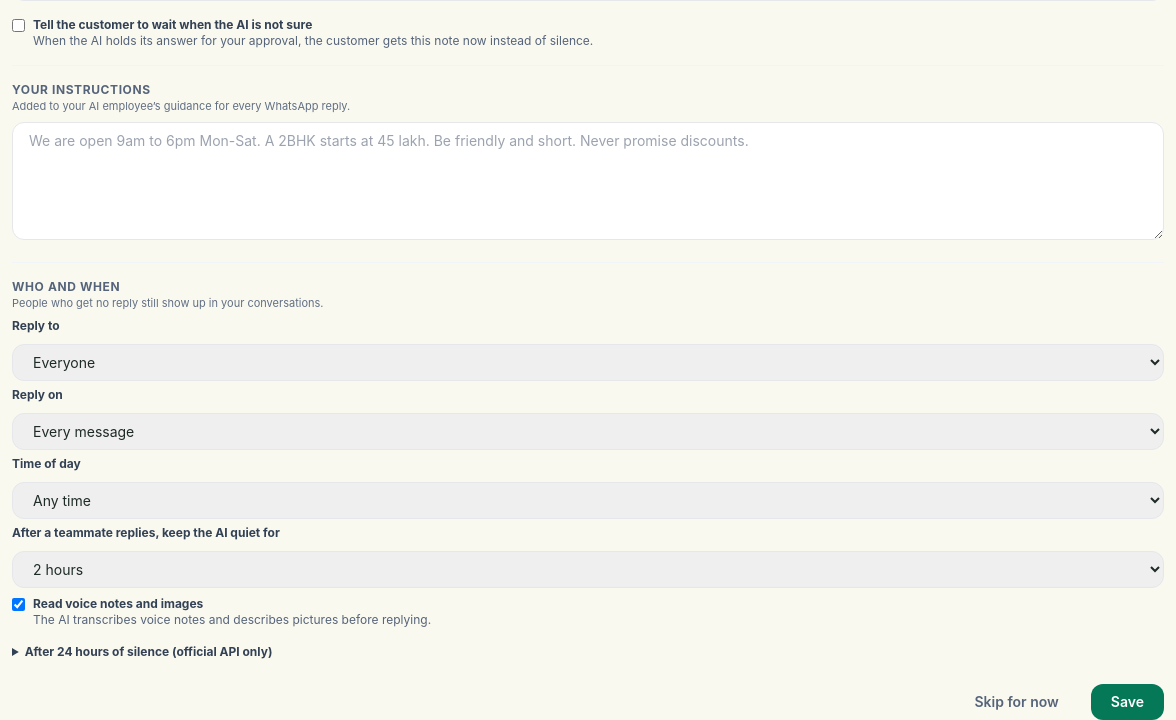
Test case: WhatsAppAutoReplyForm › shows the server’s reason when saving fails and does not close
(page scrolled)
Click the button "Save" at (1127, 702), box left=1091, top=684, right=1164, bottom=719
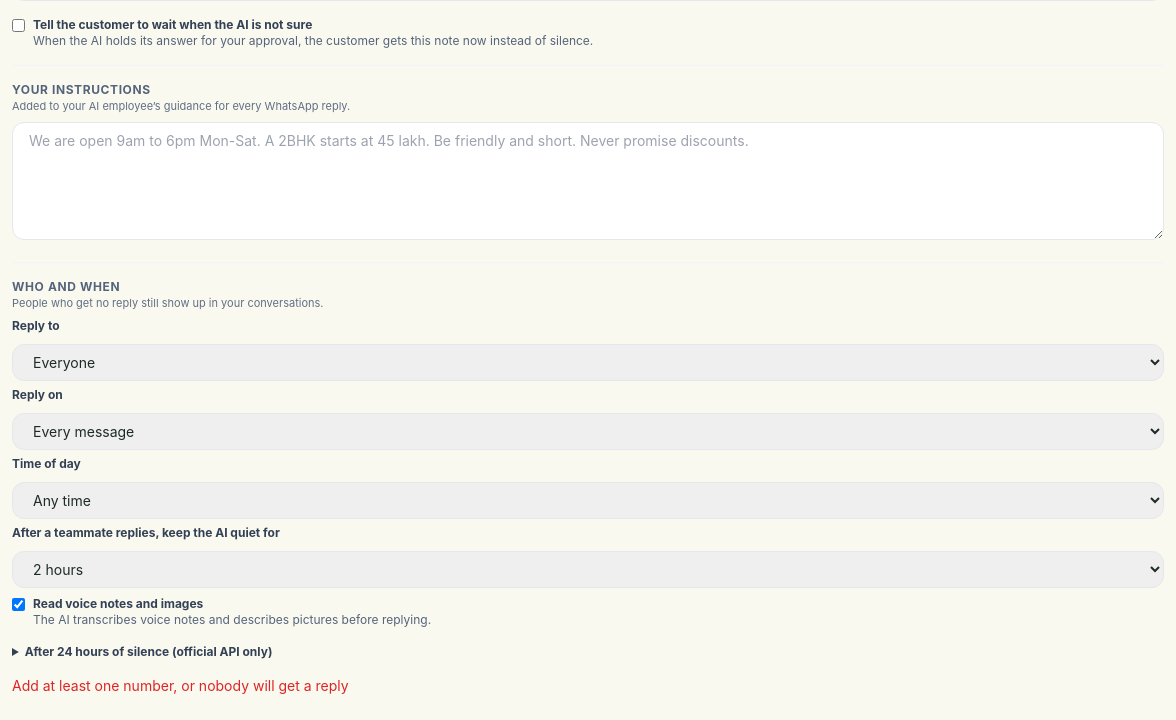
Now the text "Add at least one number, or nobody will get a reply" is shown, box left=12, top=676, right=349, bottom=694
